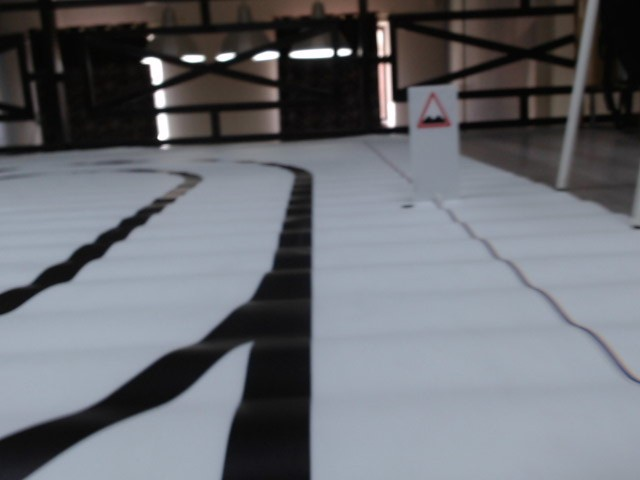Nerov: (415, 92, 450, 131)
